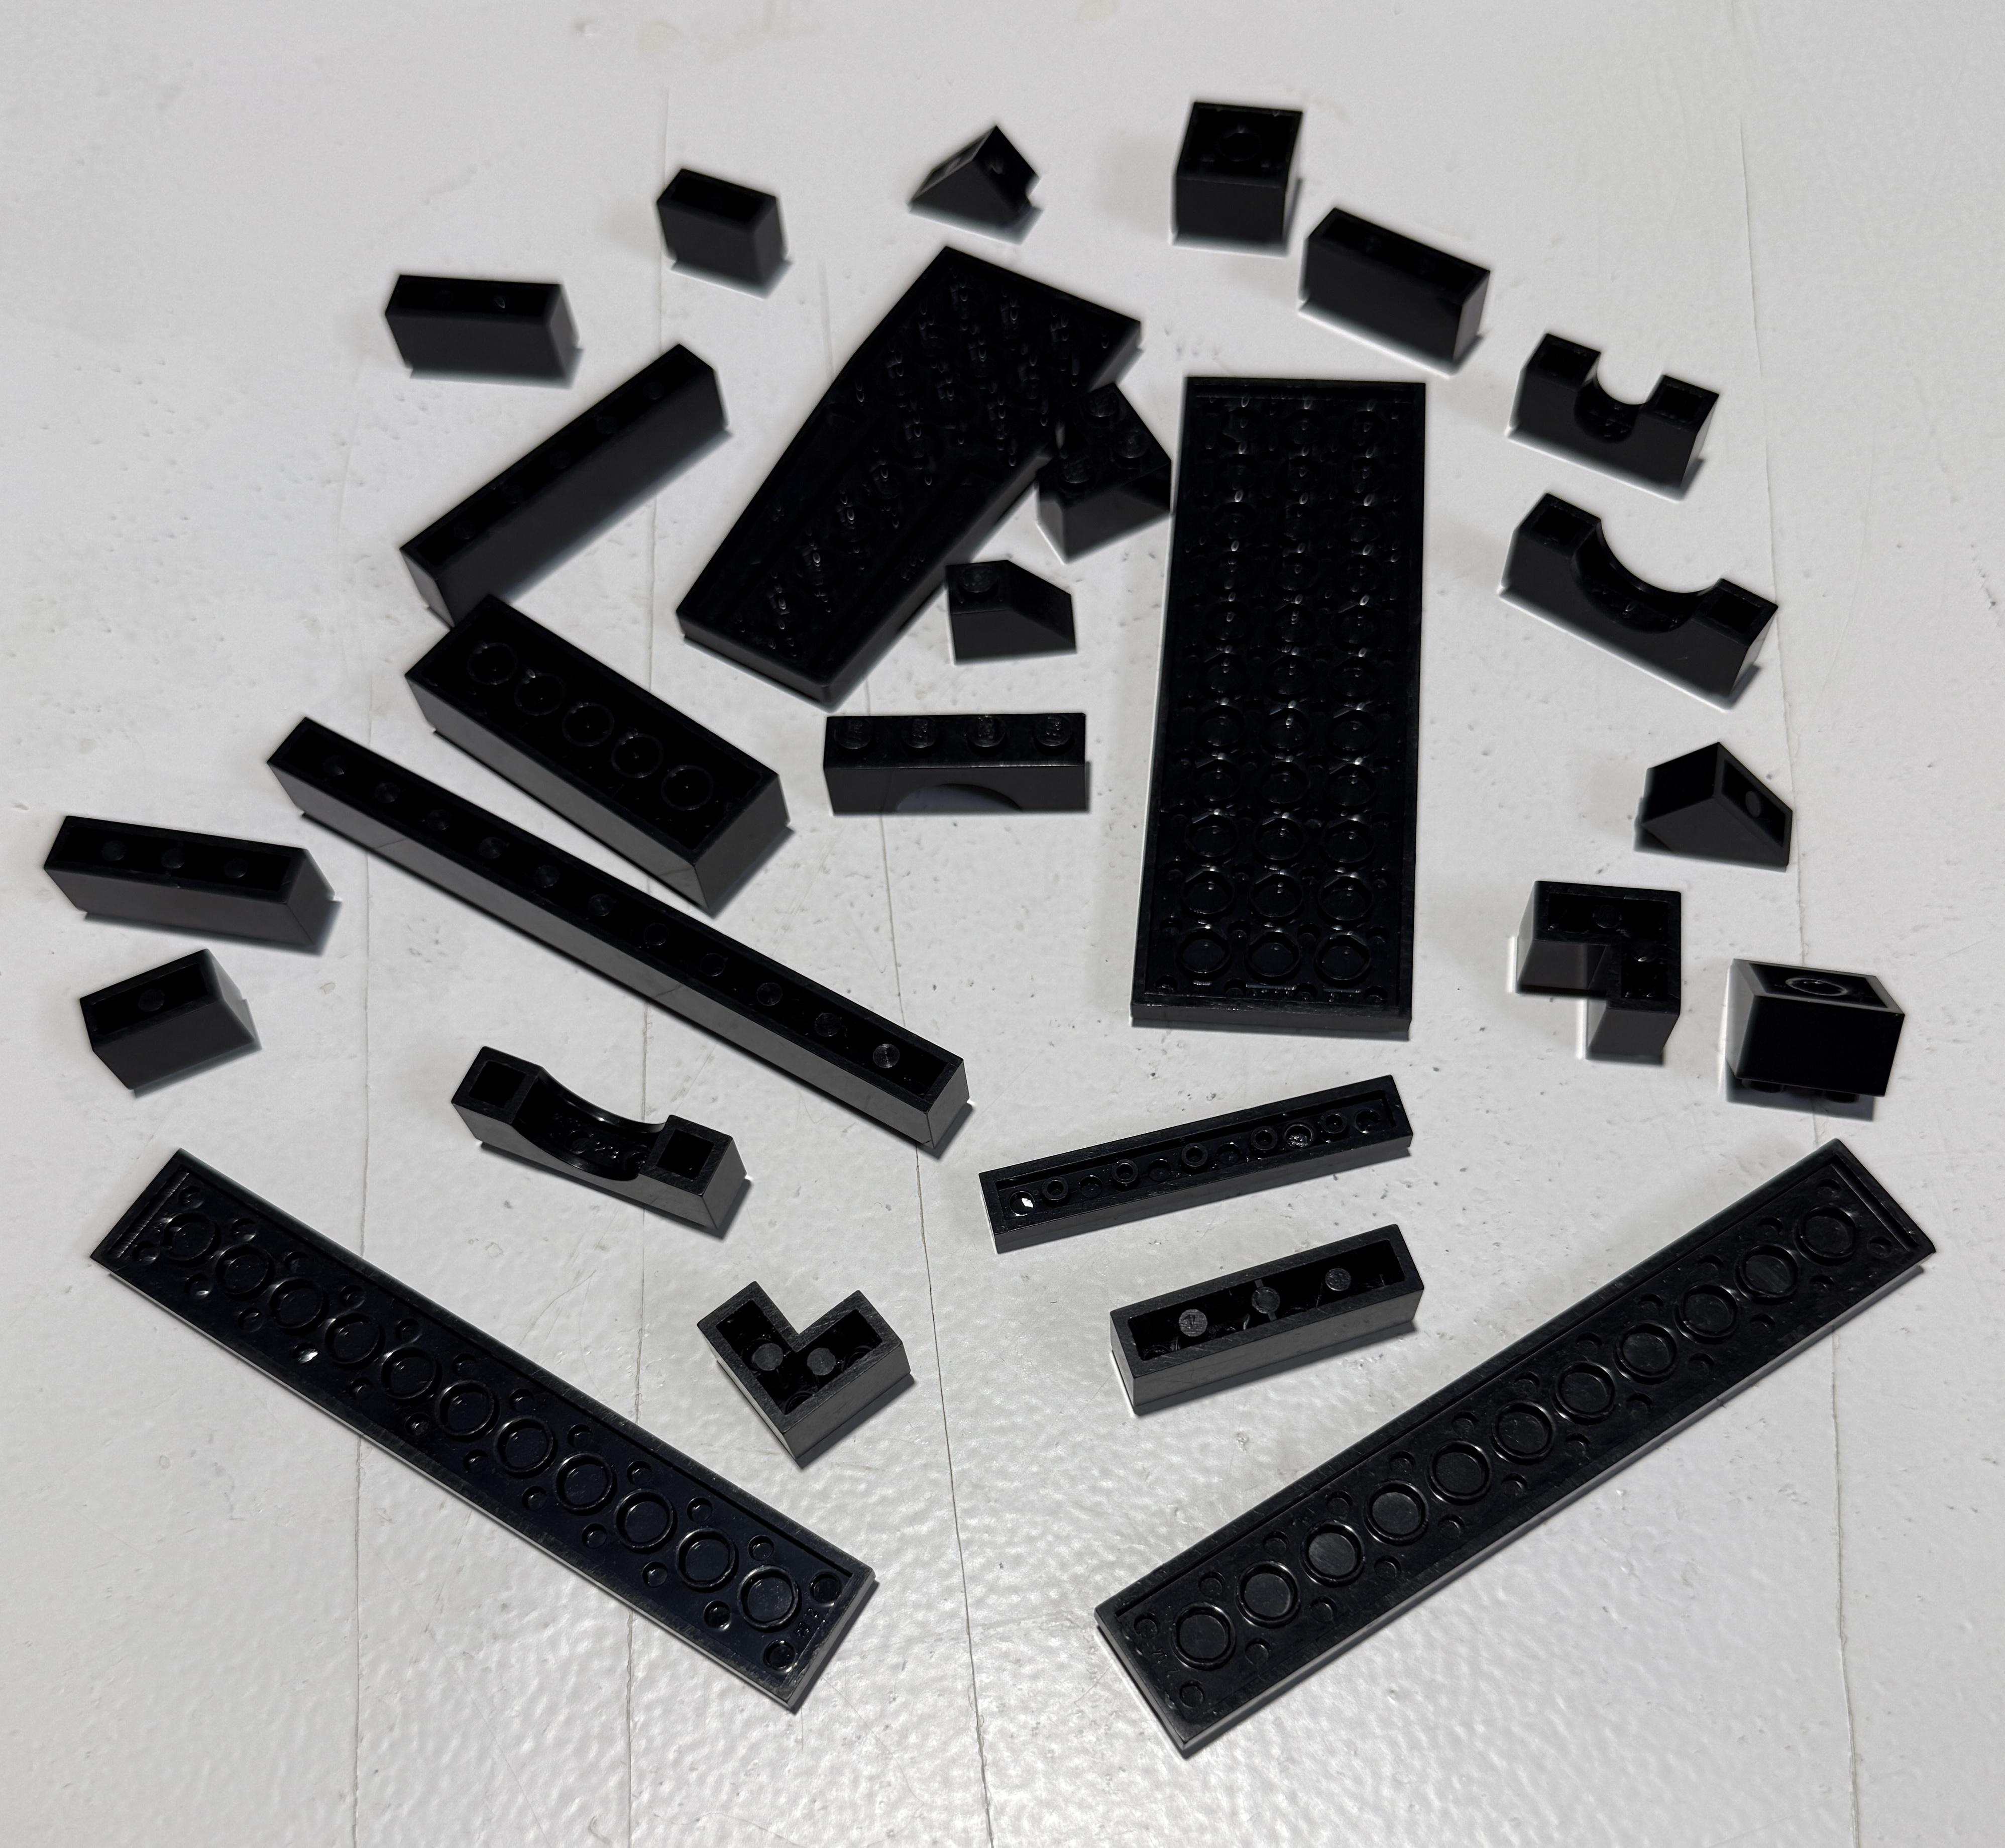brick_1x2: (56, 927, 299, 1134), (632, 147, 838, 306)
brick_2x2: (1151, 79, 1326, 264)
